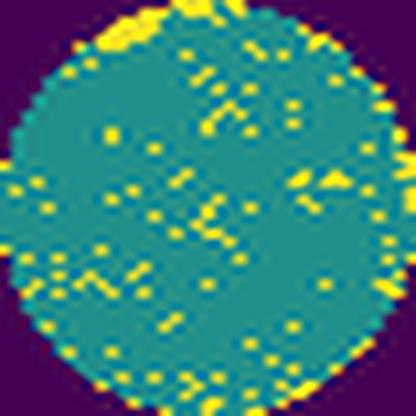Edge-Loc: (89, 0, 249, 53)
